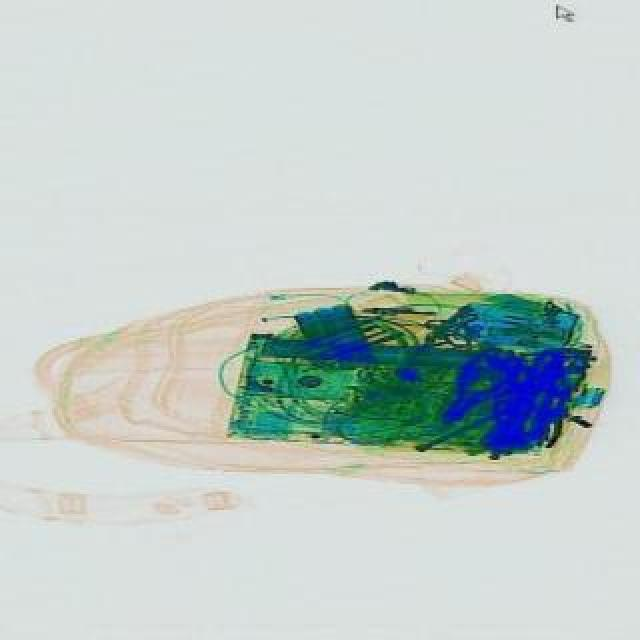wrench: (424, 340, 524, 436)
